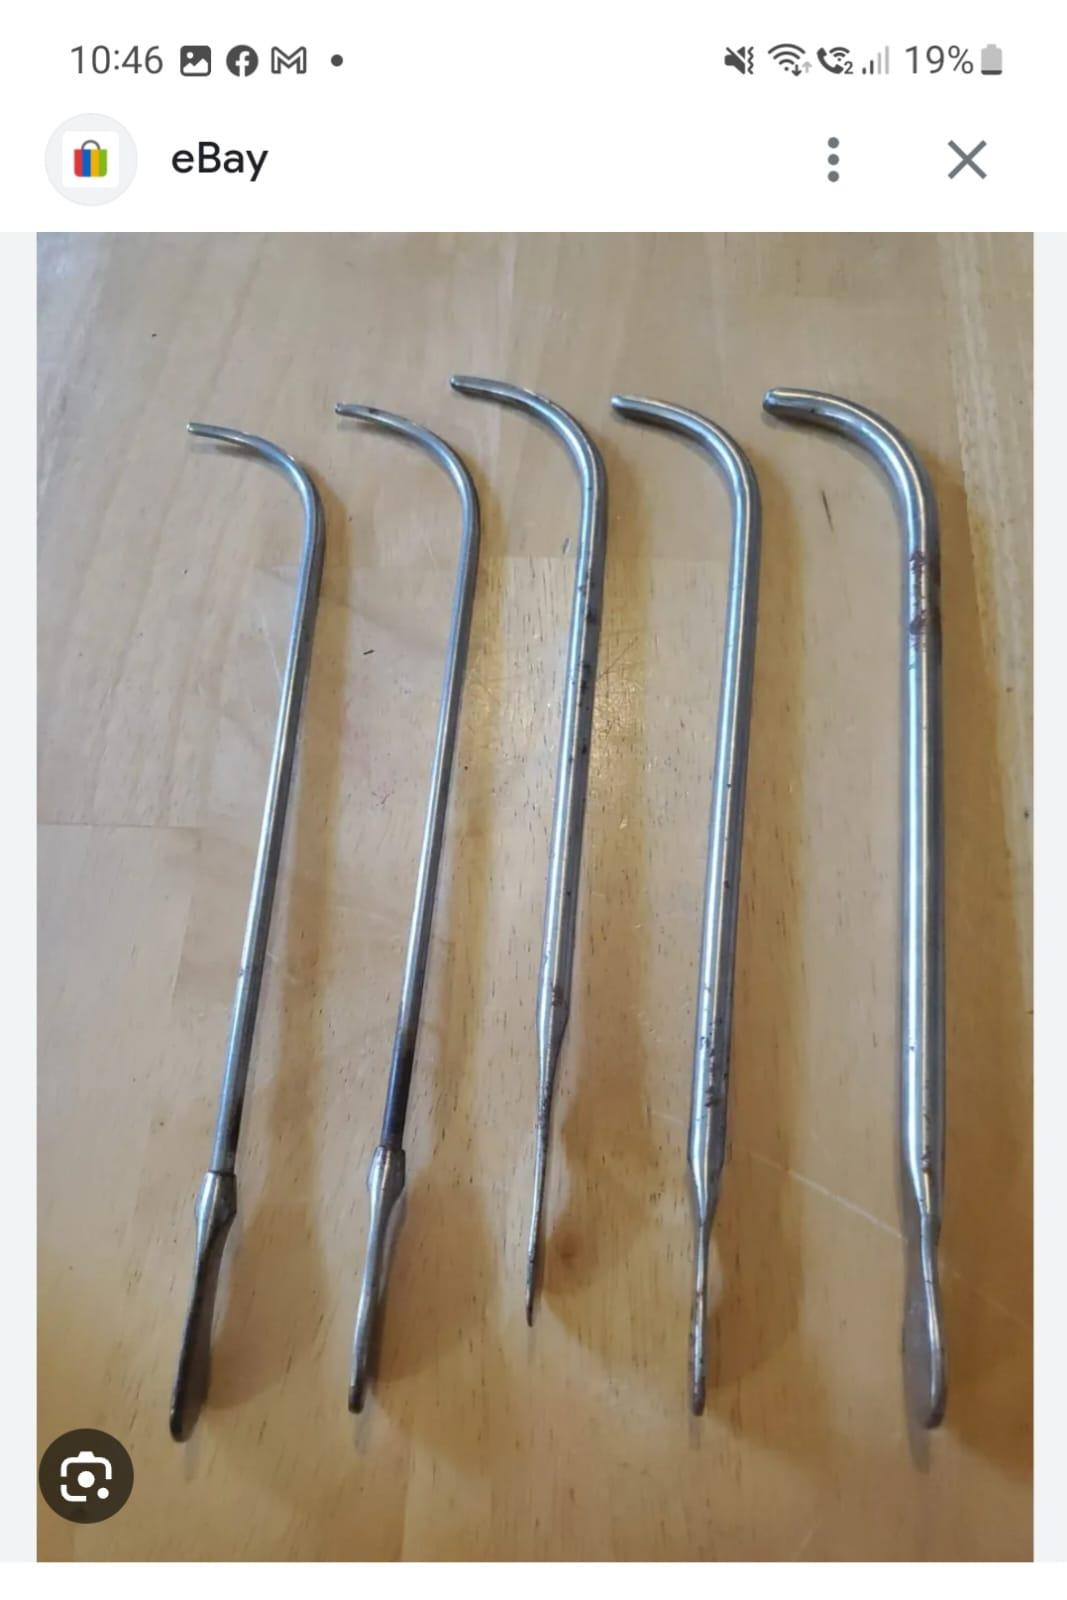Urethral Dilators: (760, 368, 978, 1445), (430, 342, 632, 1332), (137, 390, 325, 1448), (610, 380, 787, 1432), (340, 363, 485, 1435)
